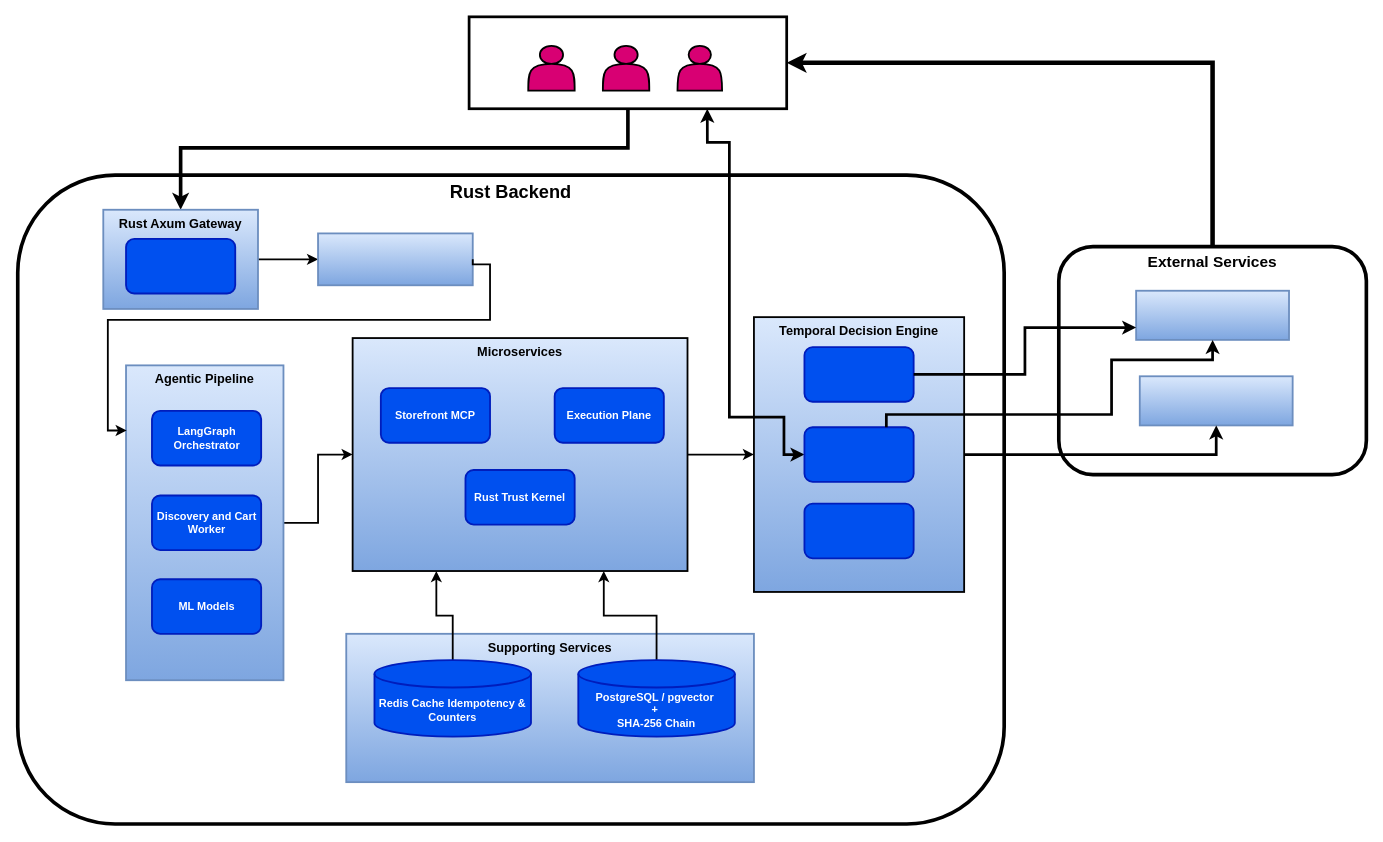
Image size: 1383x842. Some labels were removed from this diagram. The centre of each missing label's shape, as x and y in pixels:
Approved: the point at 858,374
Fast API Gateway: the point at 395,259
Gemini LLM: the point at 1215,400
Mandate Handler: the point at 180,266
Needs Human: the point at 858,454
Razorpay Test Mode: the point at 1212,314
Refused: the point at 858,530
